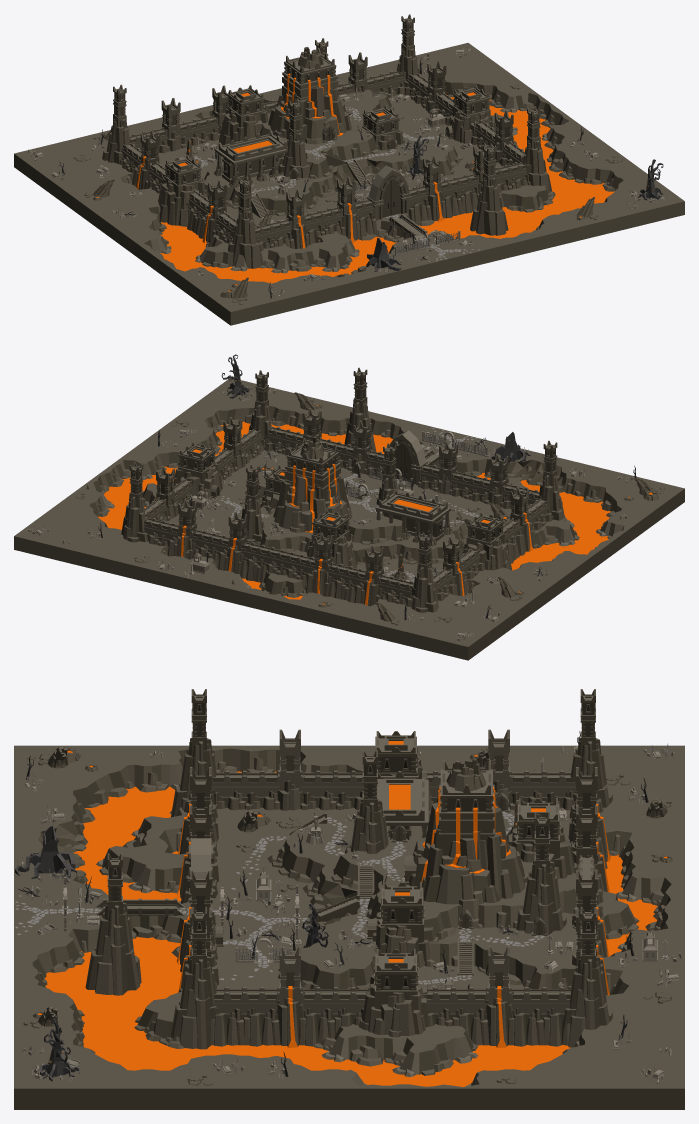
The model's file is SF_Bld_Preset_Undead_Castle_02.fbx.
3 renders of one model, top to bottom at view 1: azimuth 30°, elevation 25°; view 2: azimuth 150°, elevation 25°; view 3: azimuth 270°, elevation 25°, orthographic. The views are drawn at different scales.
Visible parts, largest first — view 1: SF_Bld_Preset_Undead_Castle_02; view 2: SF_Bld_Preset_Undead_Castle_02; view 3: SF_Bld_Preset_Undead_Castle_02.
Part boxes in pixels (box(x1,y1,x2,y2)): SF_Bld_Preset_Undead_Castle_02: box(14, 14, 684, 325); SF_Bld_Preset_Undead_Castle_02: box(14, 354, 684, 660); SF_Bld_Preset_Undead_Castle_02: box(14, 689, 684, 1109).
Size of the model in its own units: 230 by 55.38 by 190.
